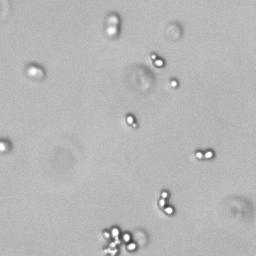budding: (156, 189, 174, 216), (150, 53, 165, 68), (195, 150, 214, 159), (125, 114, 137, 127)
cluster: (99, 225, 140, 256)
individual: (169, 78, 179, 88)
